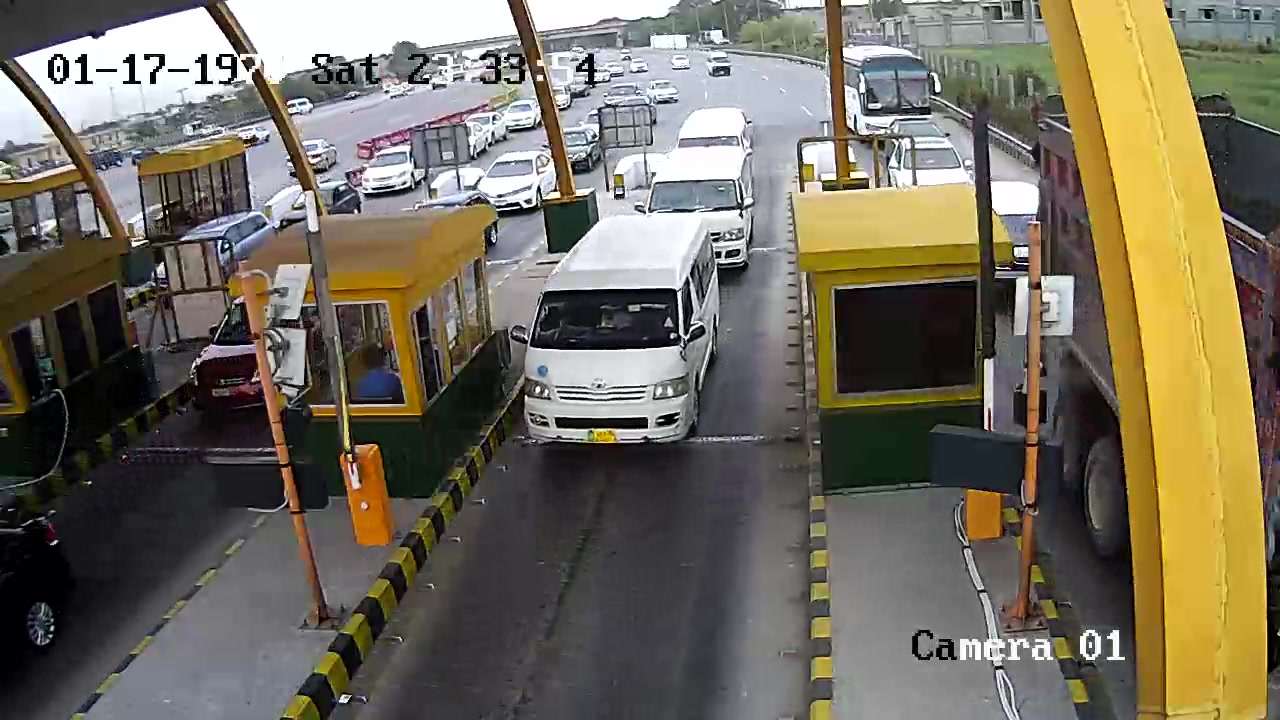F2: (525, 215, 725, 456)
